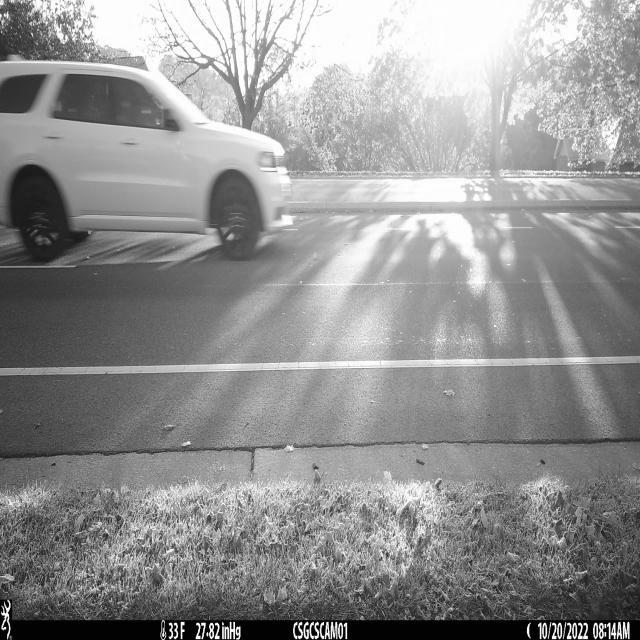SUV: (0, 60, 292, 261)
